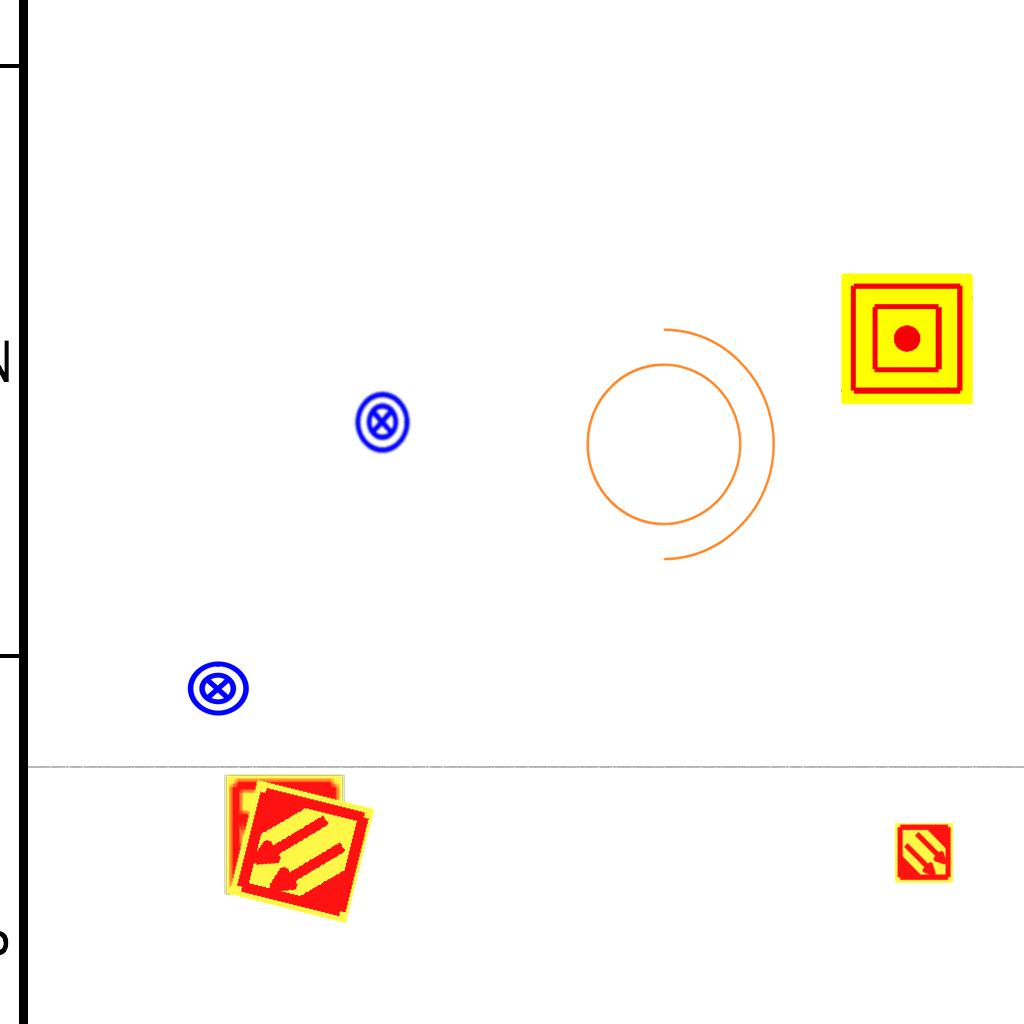ASR_Ansaugrauchmelder: (225, 775, 378, 928), (222, 772, 347, 897), (893, 822, 955, 884)
NAM-Nichtautomatischer_Melder: (841, 273, 973, 405)
Scheinwerfer_fuer_Alarmbeleuchtung: (561, 306, 786, 570)
Taster_beleuchtet: (349, 389, 415, 455), (185, 656, 251, 722)
